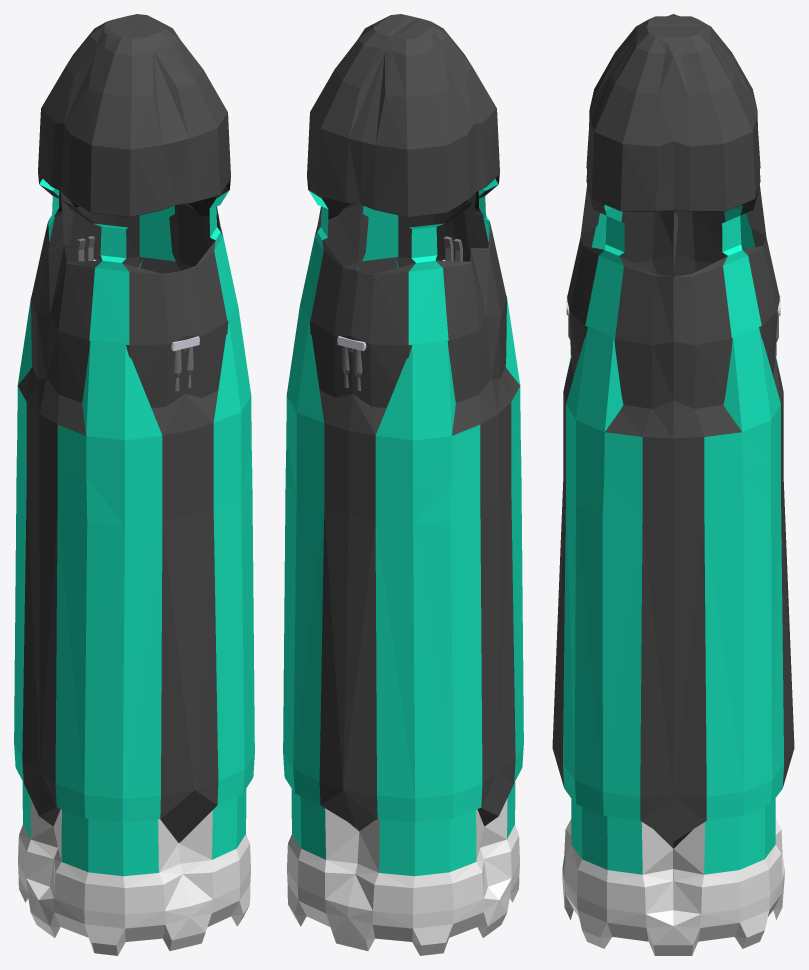
The model's file is HeimdalII.gltf.
3 views of the same model, side by side, from view 1: azimuth 30°, elevation 25°; view 2: azimuth 150°, elevation 25°; view 3: azimuth 270°, elevation 25° (orthographic).
Visible parts, largest first — view 1: Body.001, CockpitPipes.001; view 2: Body.001, CockpitPipes; view 3: Body.001.
Part boxes in pixels (x1,y1,x2,y2): Body.001: (14,14,254,955); CockpitPipes.001: (171,336,199,391); Body.001: (283,14,523,955); CockpitPipes: (337,336,366,390); Body.001: (552,14,794,955).
Size of the model in its own units: 8.31 by 36.57 by 9.06.
